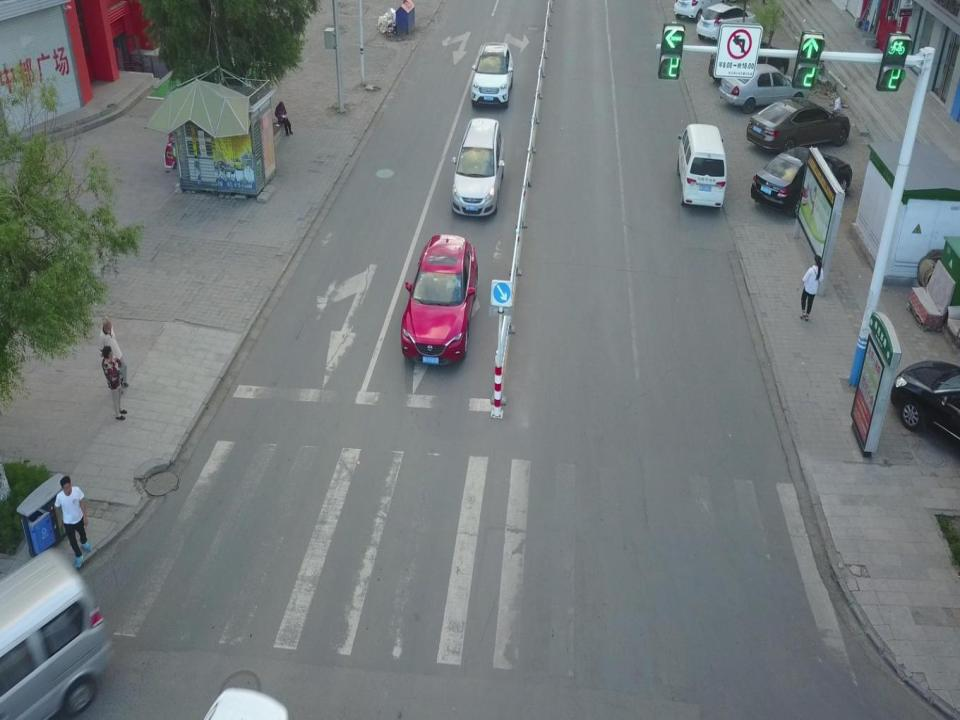car: (400, 234, 478, 366), (749, 146, 854, 217), (891, 358, 960, 451), (747, 98, 851, 152), (452, 118, 503, 218), (719, 64, 811, 114), (708, 40, 788, 84), (470, 42, 514, 111), (696, 3, 757, 43)
van: (0, 547, 112, 716), (677, 123, 726, 210)
